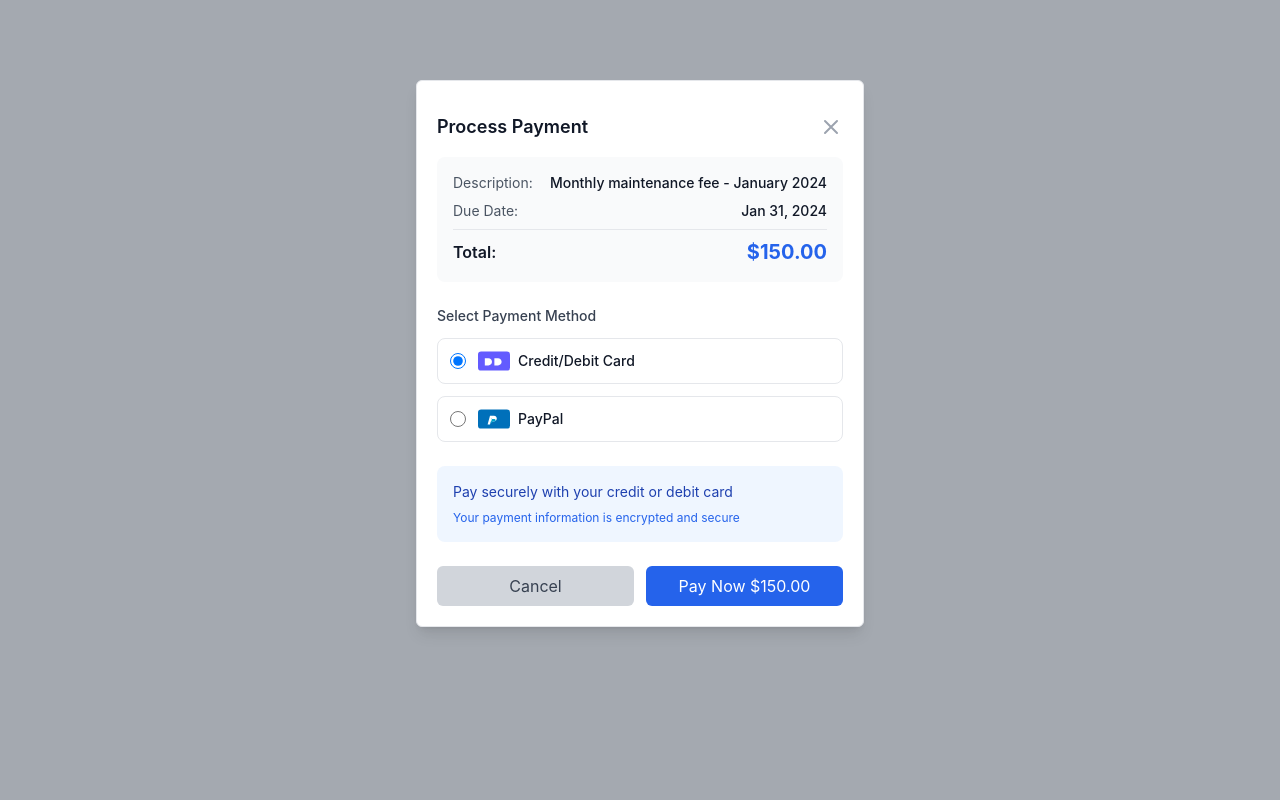
Scenario: PaymentForm › handles payment processing error
Click the button "Pay Now $150.00". click: click(744, 586)
box: 646,566 -> 843,606
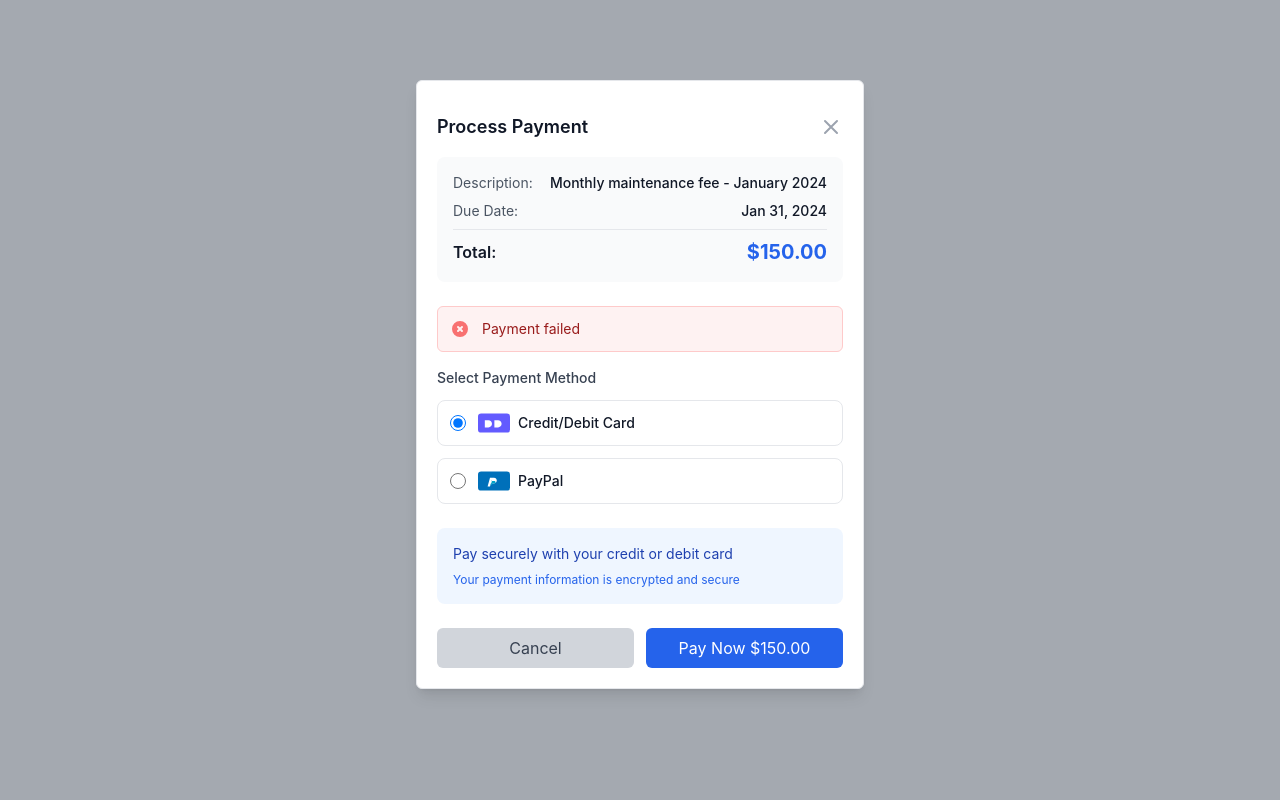
Result: the text "Payment failed" is shown at 482,319 -> 580,339
